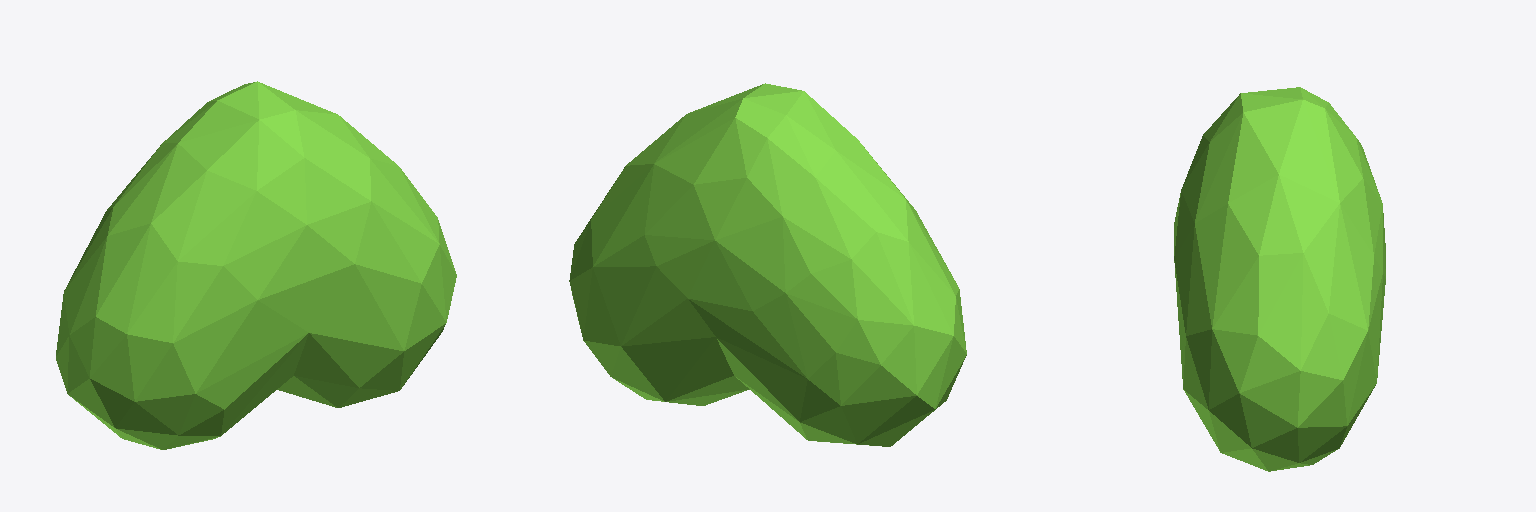
Rendered from Love.obj.
3 views of the same model, side by side, from view 1: azimuth 30°, elevation 25°; view 2: azimuth 150°, elevation 25°; view 3: azimuth 270°, elevation 25° (orthographic).
Parts seen in each view (by area): view 1: Love_1; view 2: Love_1; view 3: Love_1.
Boxes of the visible parts, x1=… form: Love_1: x1=56, y1=81, x2=456, y2=449; Love_1: x1=569, y1=83, x2=966, y2=446; Love_1: x1=1174, y1=87, x2=1385, y2=471.
Bounding box in the file's own units: 80.33 × 67.16 × 39.58.